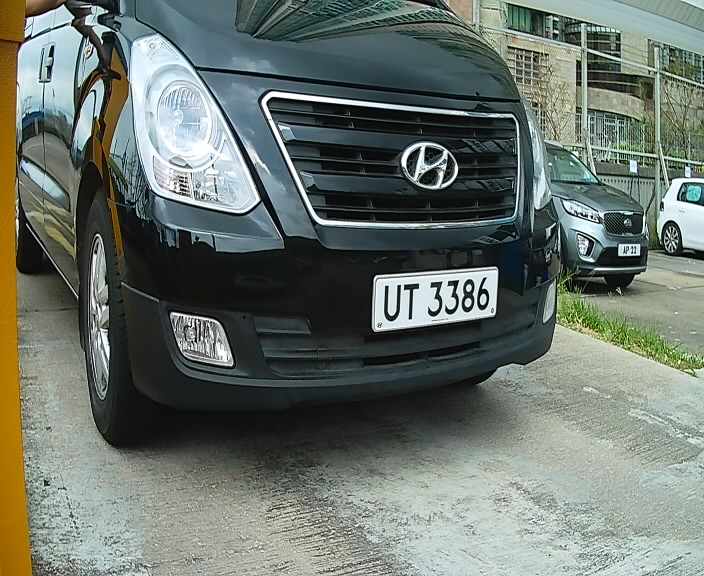License Plate: (366, 264, 507, 341)
